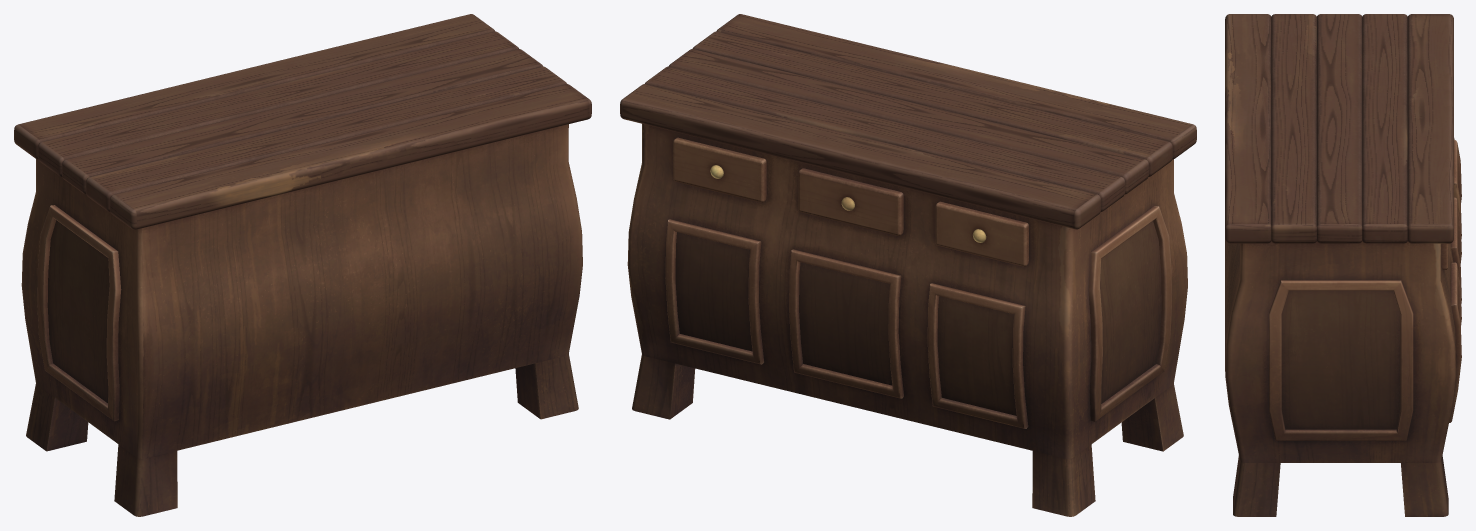
File: SM_Cabinet_02.fbx
3 renders of one model, left to right at view 1: azimuth 30°, elevation 25°; view 2: azimuth 150°, elevation 25°; view 3: azimuth 270°, elevation 25°, orthographic. The views are drawn at different scales.
Parts seen in each view (by area): view 1: SM_Cabinet_02_LOD0; view 2: SM_Cabinet_02_LOD0; view 3: SM_Cabinet_02_LOD0.
Part boxes in pixels (<box>): SM_Cabinet_02_LOD0: <box>14,14,591,516</box>; SM_Cabinet_02_LOD0: <box>620,14,1196,516</box>; SM_Cabinet_02_LOD0: <box>1225,14,1461,516</box>.
Bounding box in the file's own units: 151 × 70.73 × 97.26.
1 material, 1 textured.
